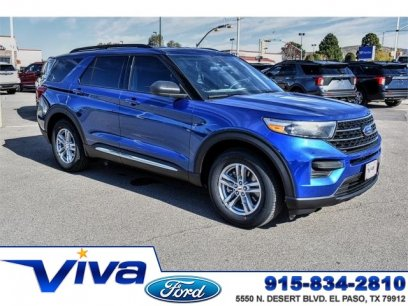Ford Explorer: (33, 43, 384, 231)
